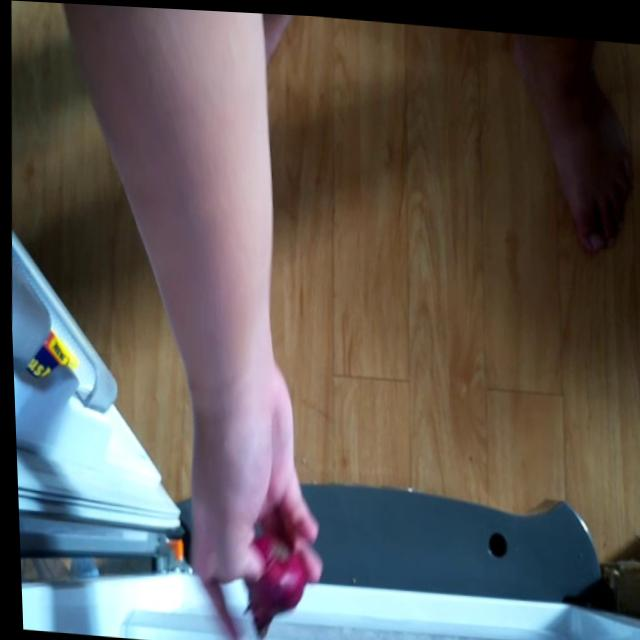onion: (230, 521, 304, 636)
